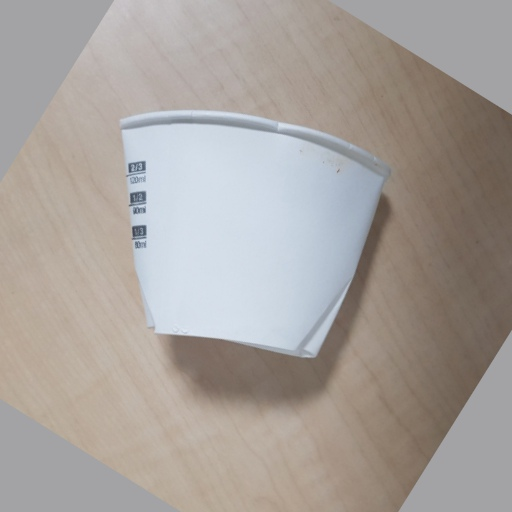Paper_1: (117, 109, 390, 362)
